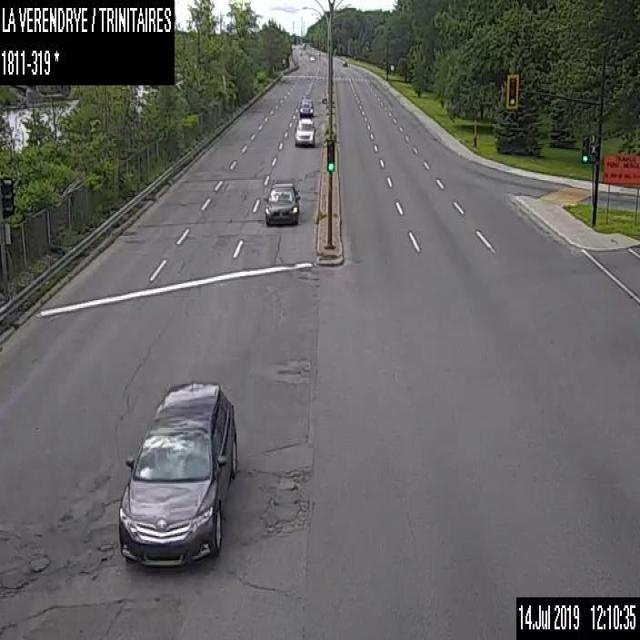vehicle: (115, 377, 239, 568), (262, 179, 301, 228), (294, 116, 316, 146), (298, 98, 313, 117), (341, 58, 346, 66), (309, 55, 314, 60)
